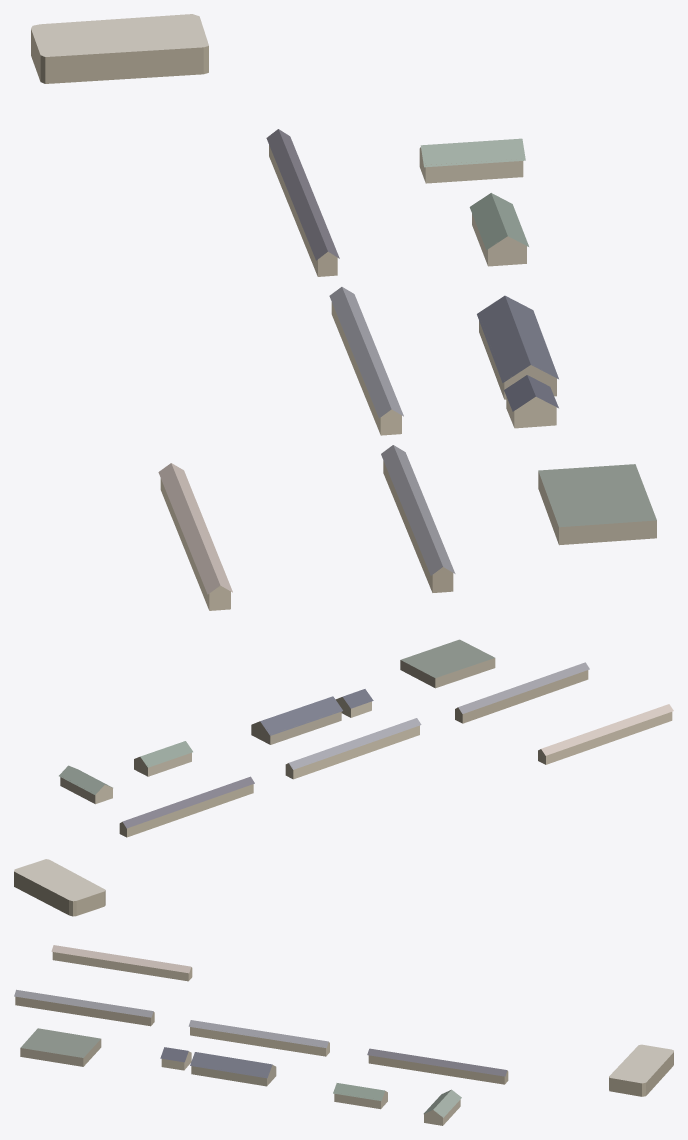
The picture shows the model from 3 angles, top to bottom: view 1: azimuth 30°, elevation 25°; view 2: azimuth 150°, elevation 25°; view 3: azimuth 270°, elevation 25°; orthographic projection. The views are drawn at different scales.
Visible parts, largest first — view 1: tuile; view 2: tuile; view 3: tuile.
Boxes of the visible parts, x1,y1,x2,y2 form: tuile: (31,14,656,610); tuile: (14,639,673,916); tuile: (14,945,673,1125).
Size of the model in its own units: 136 by 6.36 by 223.
